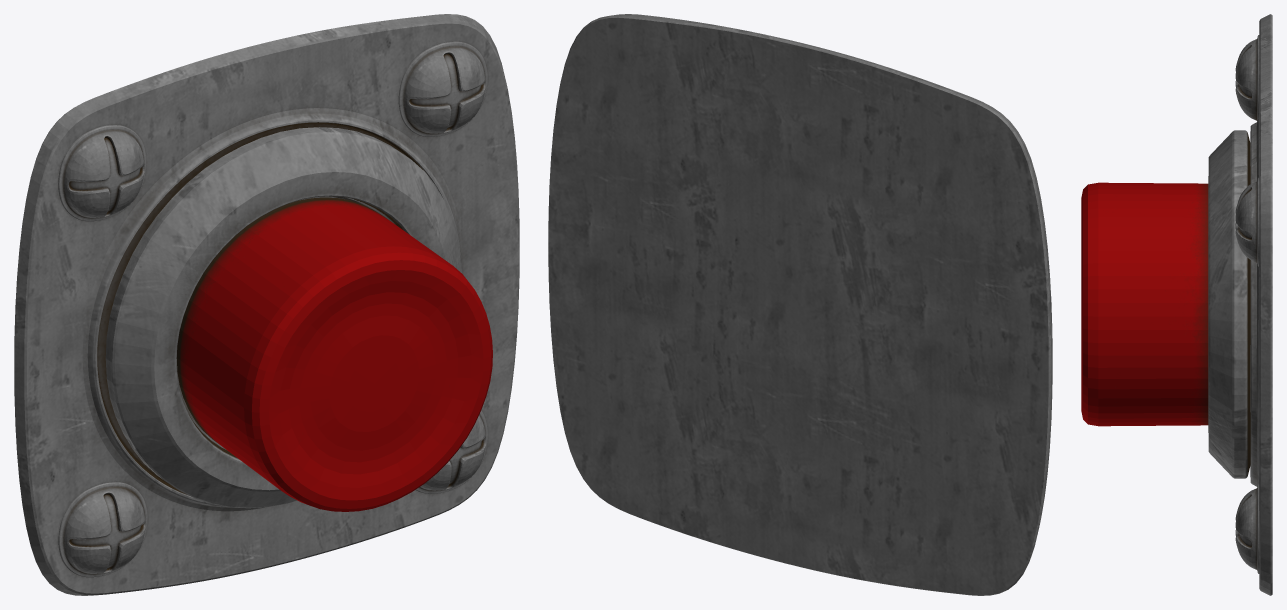
The model's file is botonrojo.obj.
The picture shows the model from 3 angles, left to right: view 1: azimuth 30°, elevation 25°; view 2: azimuth 150°, elevation 25°; view 3: azimuth 270°, elevation 25°; orthographic projection. The views are drawn at different scales.
Visible parts, largest first — view 1: Object.1; view 2: Object.1; view 3: Object.1.
Boxes of the visible parts, x1=… form: Object.1: x1=14, y1=14, x2=519, y2=595; Object.1: x1=548, y1=14, x2=1052, y2=595; Object.1: x1=1081, y1=14, x2=1272, y2=595.
Size of the model in its own units: 5828 by 5794 by 2226.
Materials: 1 (1 with a texture image).
